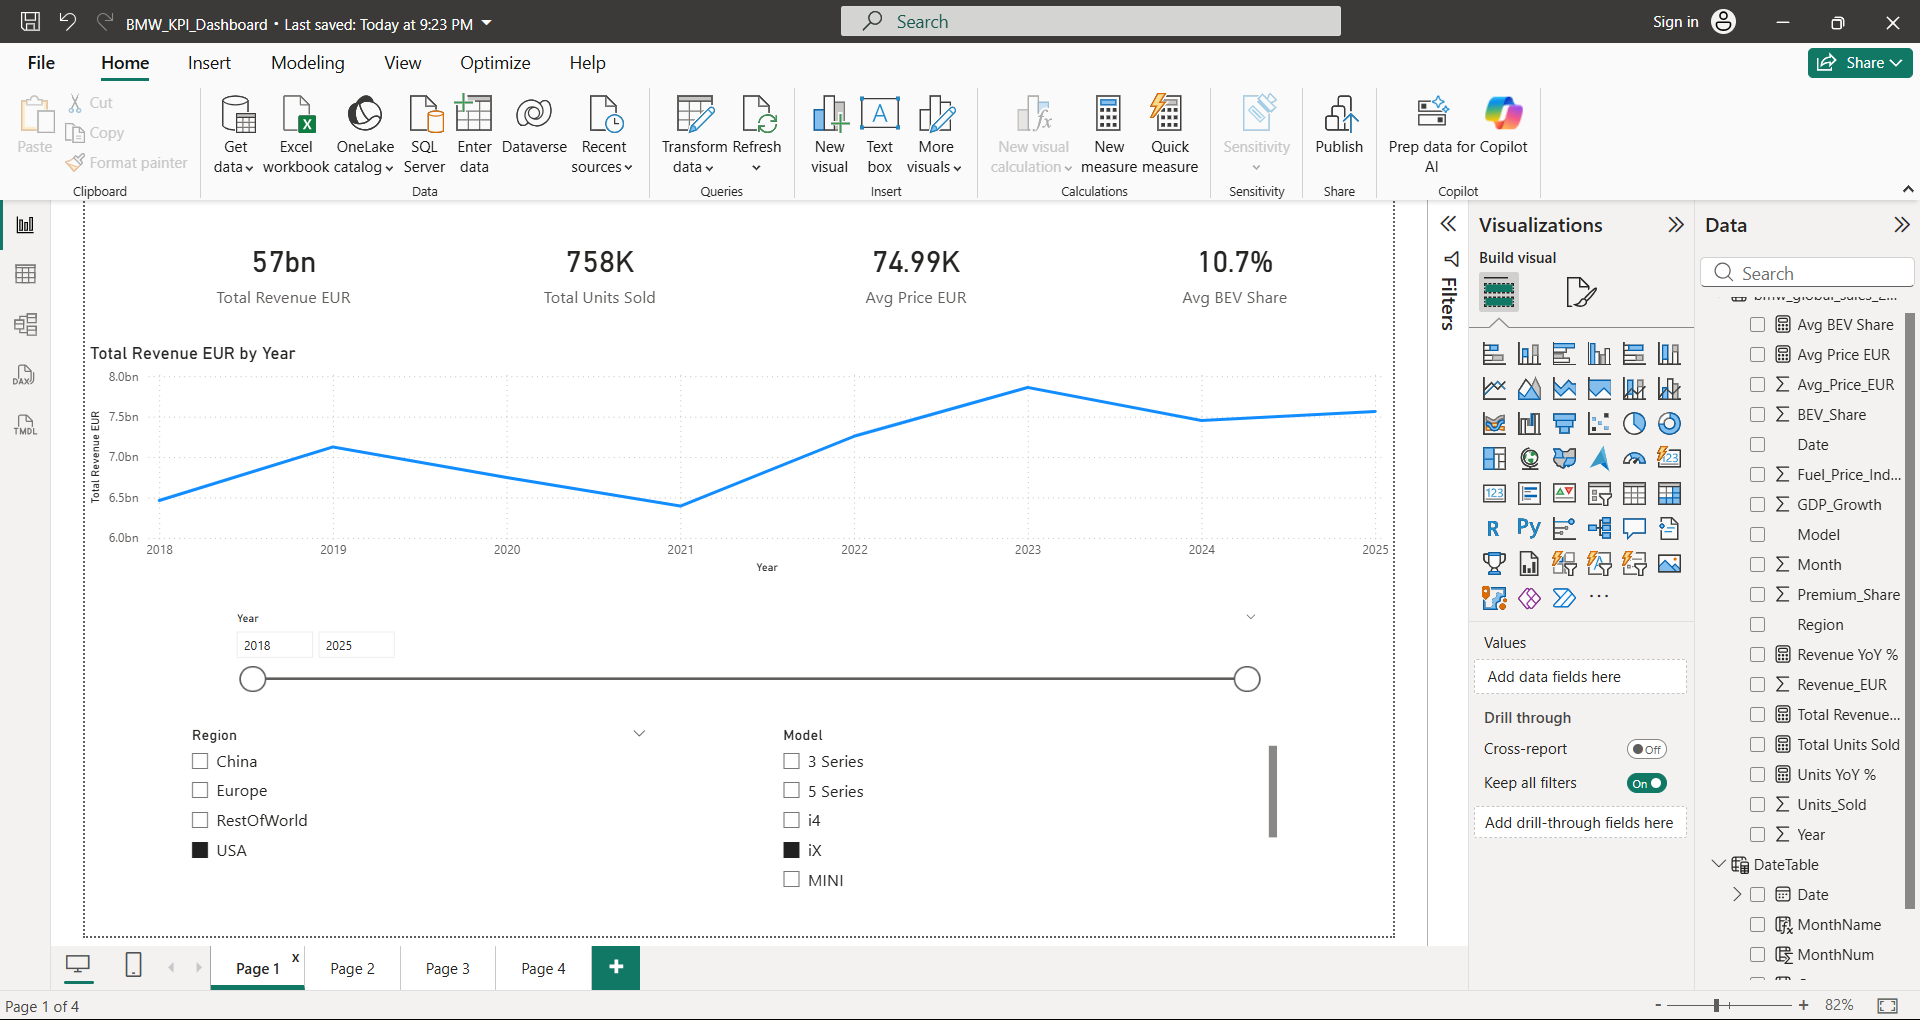

Layout of this report page (visuals, bound fields, positions):
{"tool":"powerbi","page":{"name":"Page 1","canvas":[1280,720],"ordinal":0},"visuals":[{"type":"card","fields":{"Values":["bmw_global_sales_2018_2025.Total Revenue EUR"]},"box":[70.9,0,247,139.4],"z":0},{"type":"card","fields":{"Values":["bmw_global_sales_2018_2025.Avg Price EUR"]},"box":[692.1,0,242.1,139.4],"z":1000},{"type":"card","fields":{"Values":["bmw_global_sales_2018_2025.Avg BEV Share"]},"box":[996.6,0,256.8,139.4],"z":2000},{"type":"card","fields":{"Values":["bmw_global_sales_2018_2025.Total Units Sold"]},"box":[377.9,0,251.9,139.4],"z":3000},{"type":"lineChart","fields":{"Category":["DateTable.Year"],"Y":["bmw_global_sales_2018_2025.Total Revenue EUR"]},"box":[0,139.4,1280.3,231.1],"z":4000},{"type":"slicer","fields":{"Values":["DateTable.Year"]},"box":[135.7,397.4,1022.3,111.3],"z":5000},{"type":"slicer","fields":{"Values":["bmw_global_sales_2018_2025.Region"]},"box":[91.7,509.9,469.6,200.5],"z":6000},{"type":"slicer","fields":{"Values":["bmw_global_sales_2018_2025.Model"]},"box":[670.1,509.9,501.4,173.6],"z":7000}]}

Visuals, with their boxes on the page's 1280x720 design canvas (x1, y1, x2, y2). These are canvas units, not pixel positions in the 1920x1020 screenshot, which may show the page scaled, cropped or inside an application window:
card - bmw_global_sales_2018_2025.Total Revenue EUR: (left=71, top=0, right=318, bottom=139)
card - bmw_global_sales_2018_2025.Avg Price EUR: (left=692, top=0, right=934, bottom=139)
card - bmw_global_sales_2018_2025.Avg BEV Share: (left=997, top=0, right=1253, bottom=139)
card - bmw_global_sales_2018_2025.Total Units Sold: (left=378, top=0, right=630, bottom=139)
lineChart - DateTable.Year x bmw_global_sales_2018_2025.Total Revenue EUR: (left=0, top=139, right=1280, bottom=370)
slicer - DateTable.Year: (left=136, top=397, right=1158, bottom=509)
slicer - bmw_global_sales_2018_2025.Region: (left=92, top=510, right=561, bottom=710)
slicer - bmw_global_sales_2018_2025.Model: (left=670, top=510, right=1172, bottom=684)
